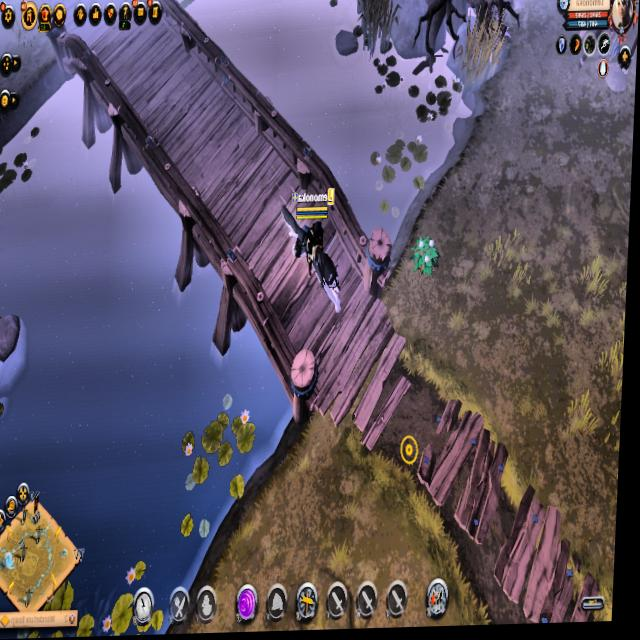fiber tier 3: (411, 234, 443, 285)
